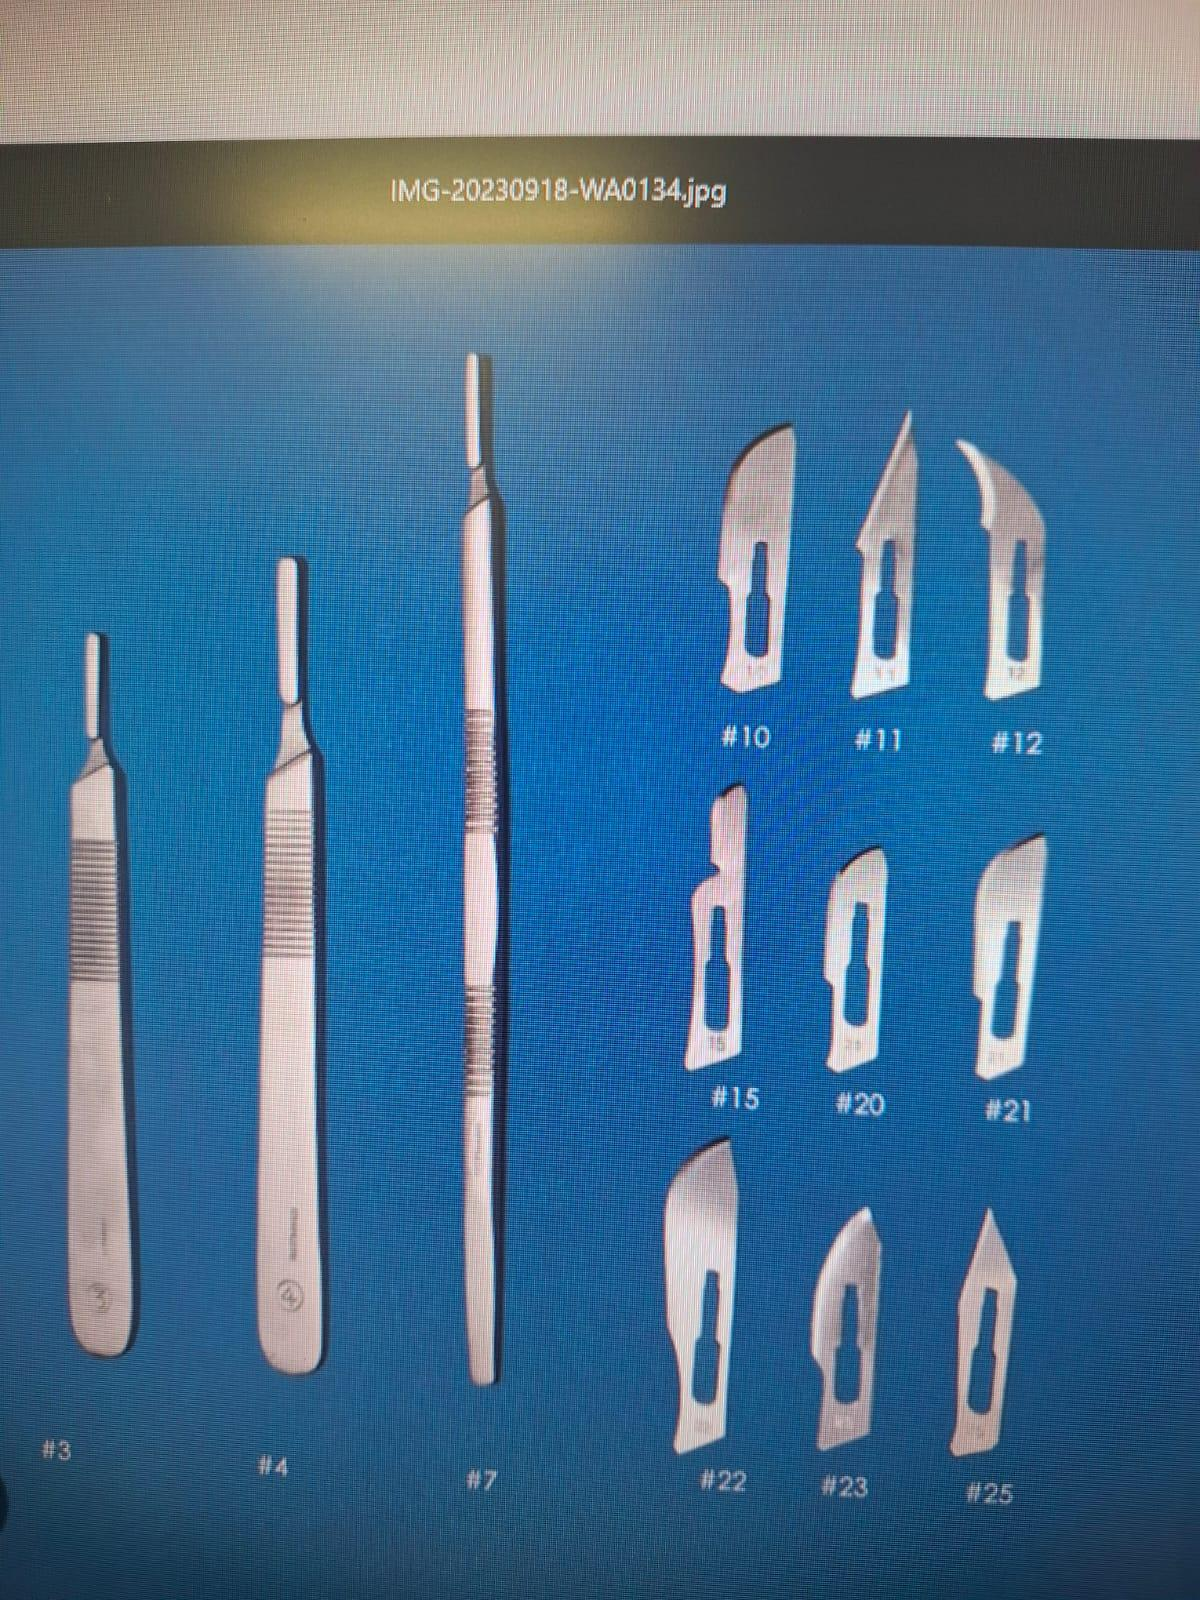Knife Blade: (935, 437, 1090, 713), (638, 1138, 758, 1463), (948, 815, 1065, 1102), (695, 409, 803, 706), (834, 404, 940, 703), (940, 1198, 1047, 1468), (813, 840, 910, 1077), (805, 1196, 885, 1458)
Knife Handle: (30, 605, 185, 1390), (239, 543, 373, 1402)
